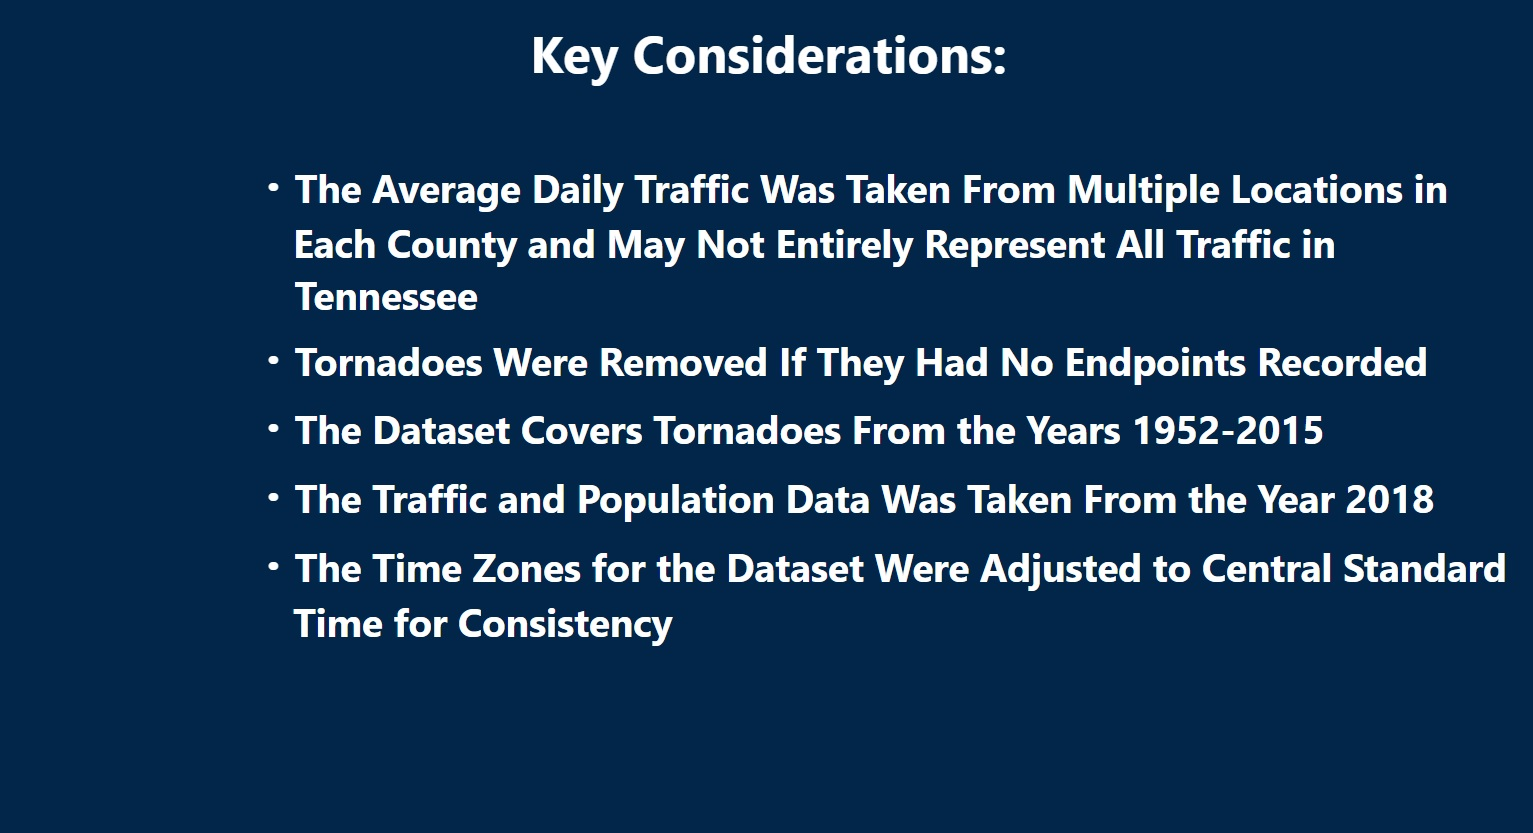

This screenshot's page, from the dashboard's own definition file:
{"tool":"powerbi","page":{"name":"Key Considerations","canvas":[1280,720],"ordinal":1},"visuals":[{"type":"textbox","box":[0,0,1280,720],"z":0}]}

Visuals, with their boxes on the page's 1280x720 design canvas (x1, y1, x2, y2). These are canvas units, not pixel positions in the 1533x833 screenshot, which may show the page scaled, cropped or inside an application window:
textbox: l=0, t=0, r=1280, b=720
